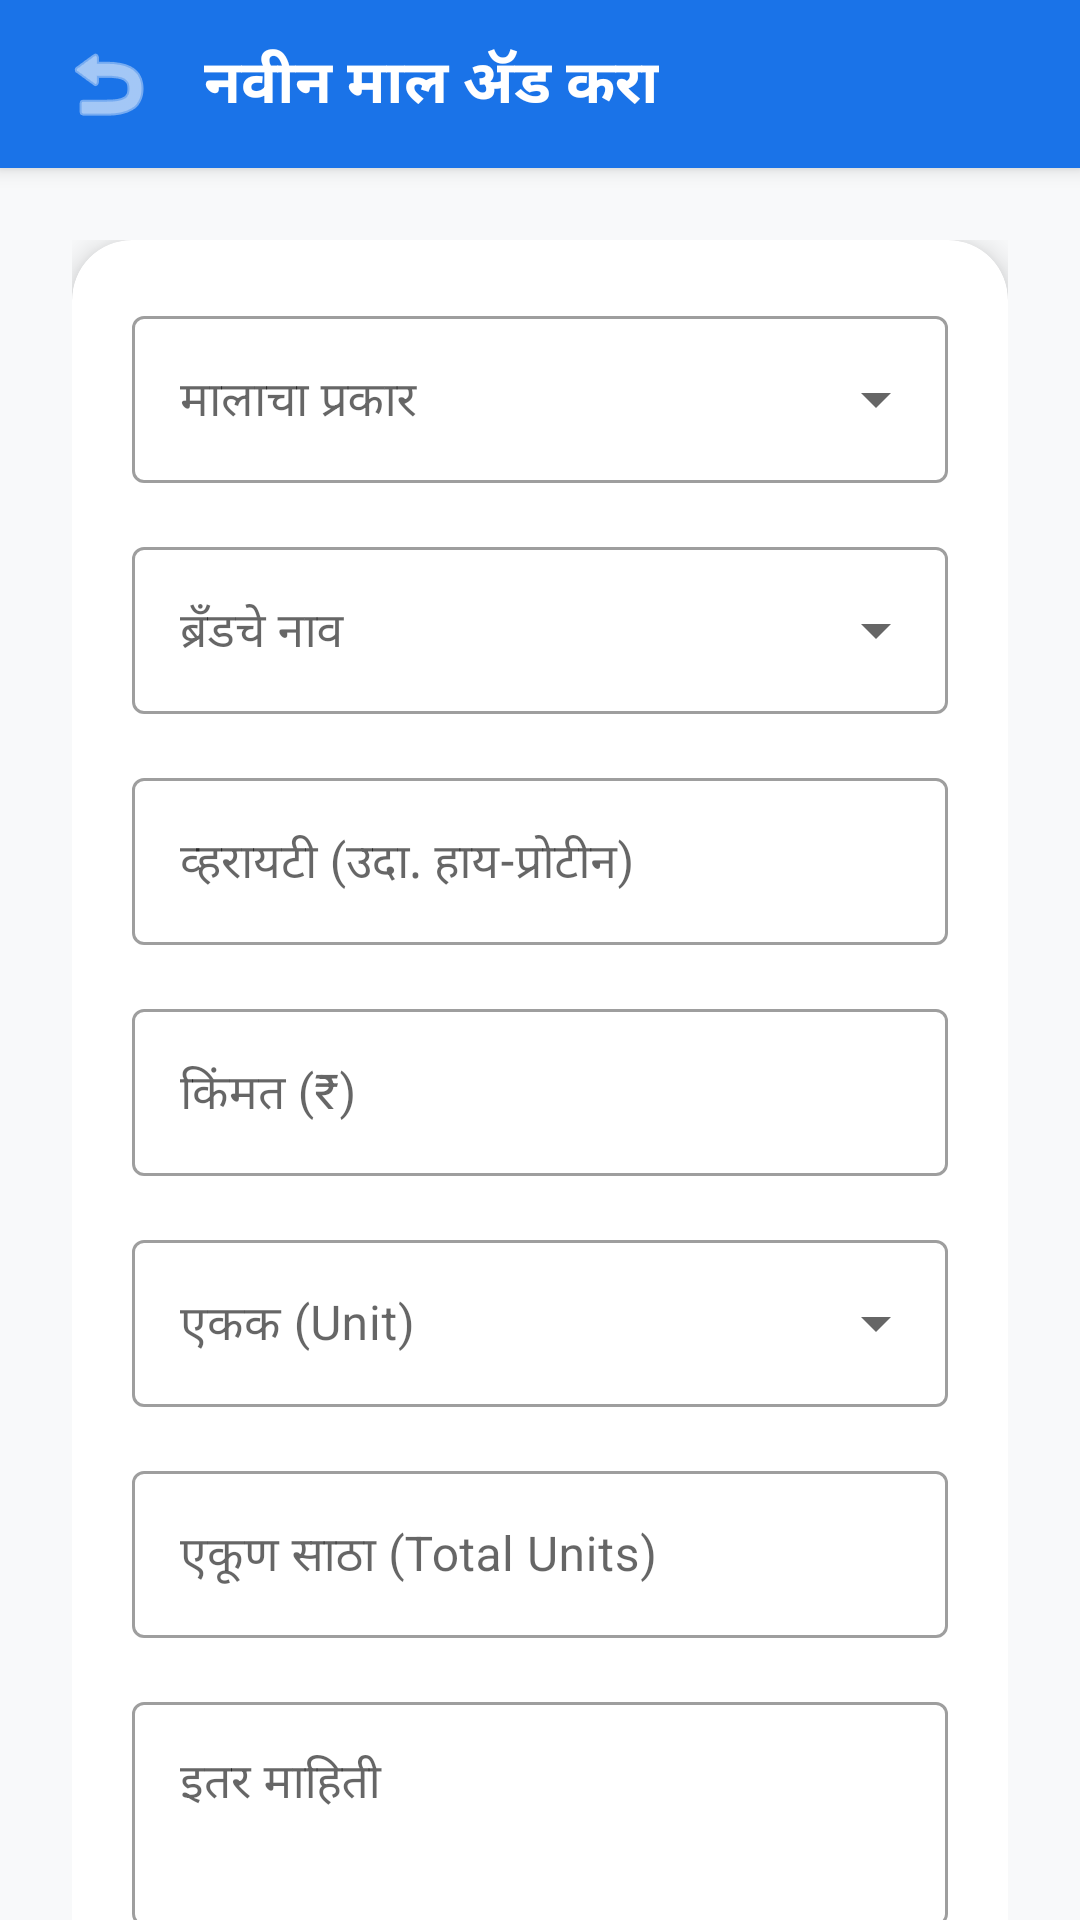

Where icons sit on this 1080×1920 app screen, as (x1, y1, x2, y2):
revert: (75, 53, 144, 116)
